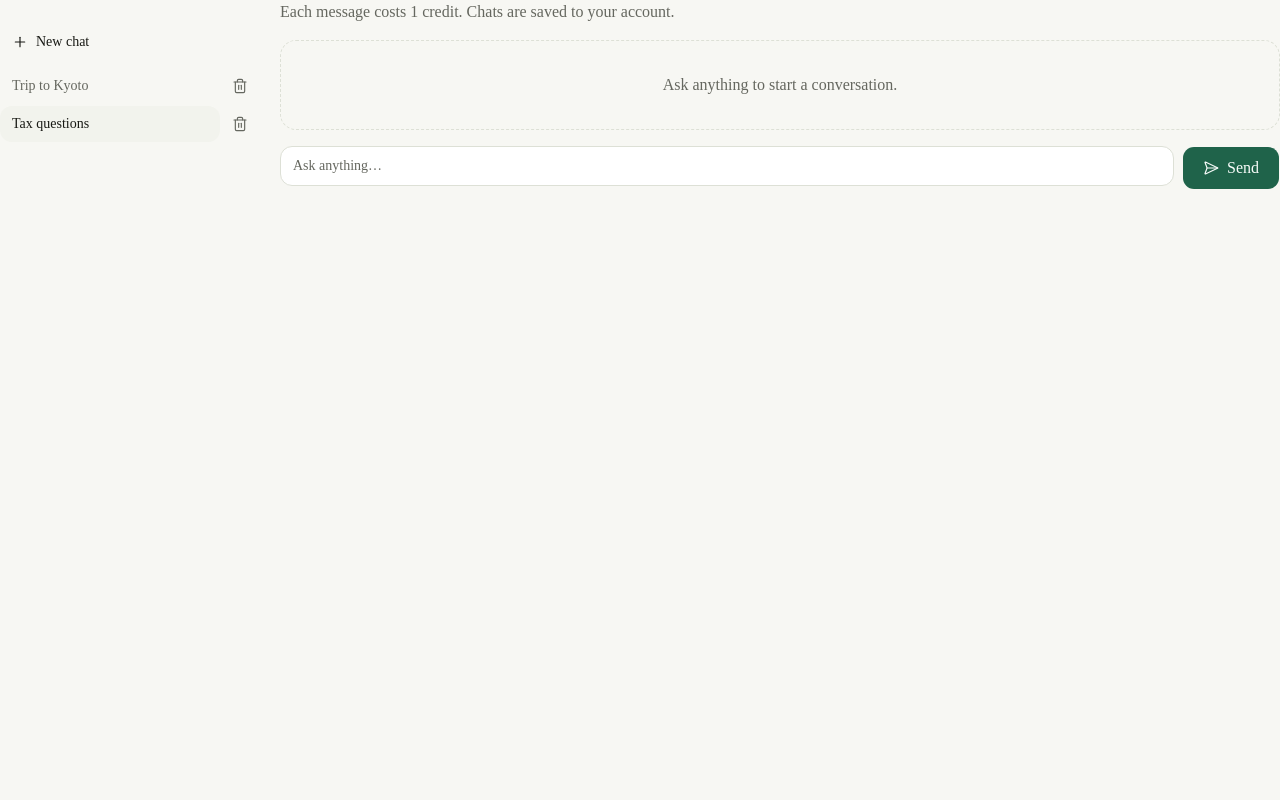
Scenario: deletes a chat after confirming
The image size is (1280, 800).
What coordinates should you click on to do the following:
click the button named "Delete “Trip to Kyoto”"
I would click on:
 (240, 86)
Its box is [224,70,256,102].
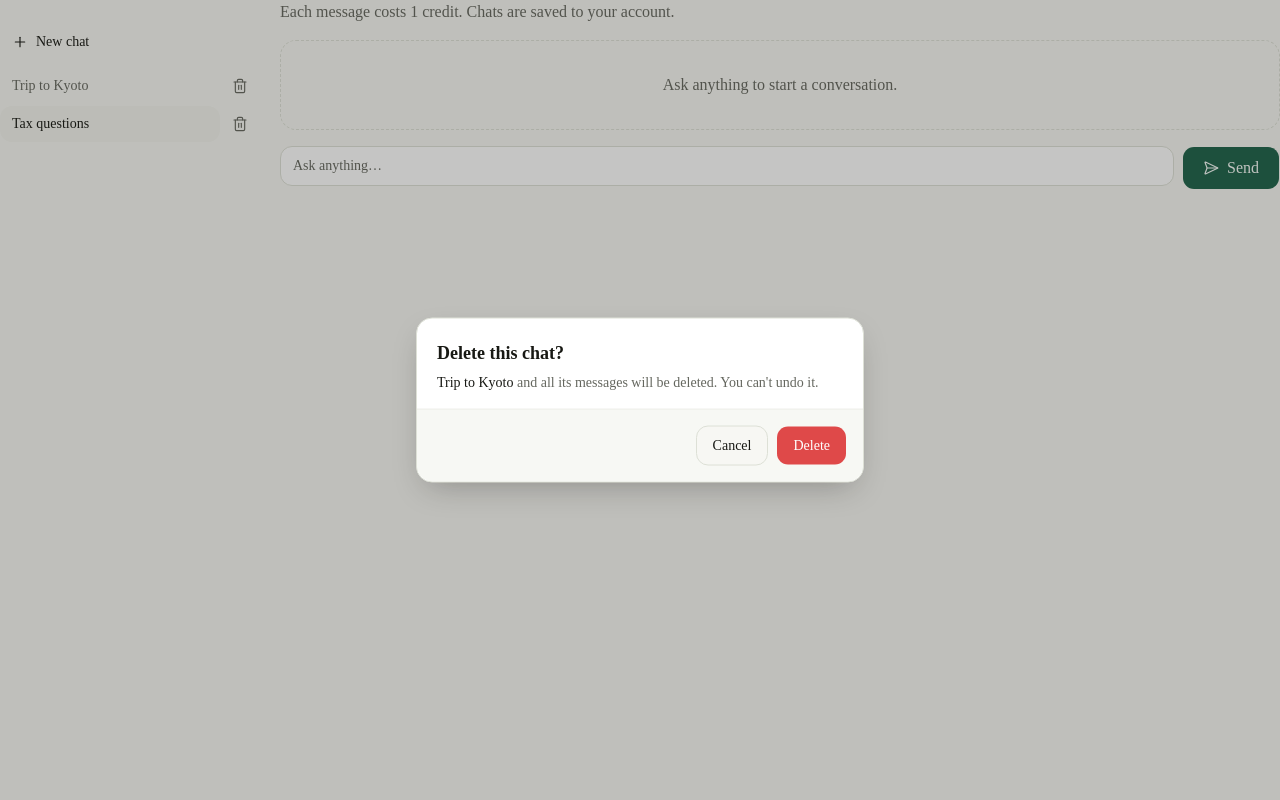
What coordinates should you click on to do the following:
click the button "Delete"
I would click on:
 (812, 446)
Its box is [776,426,847,466].
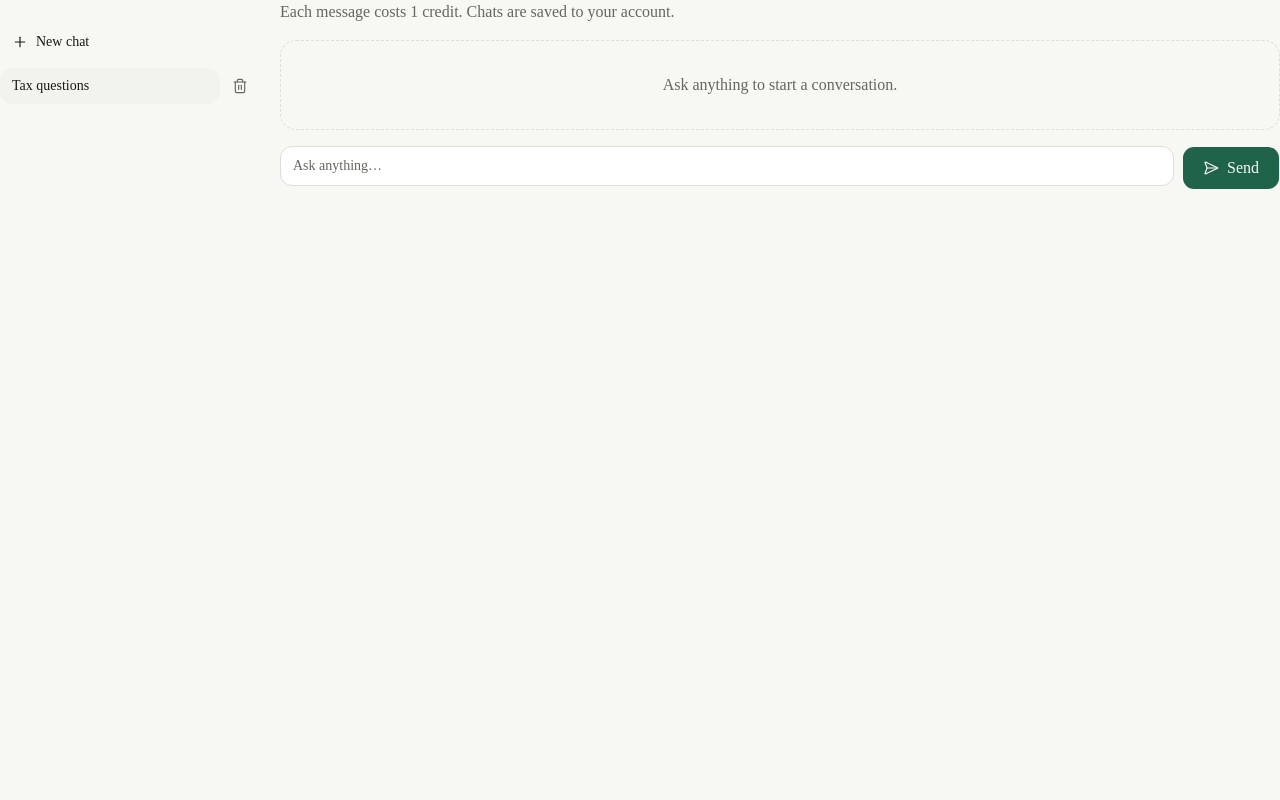
Expected: the link "Trip to Kyoto" is gone
